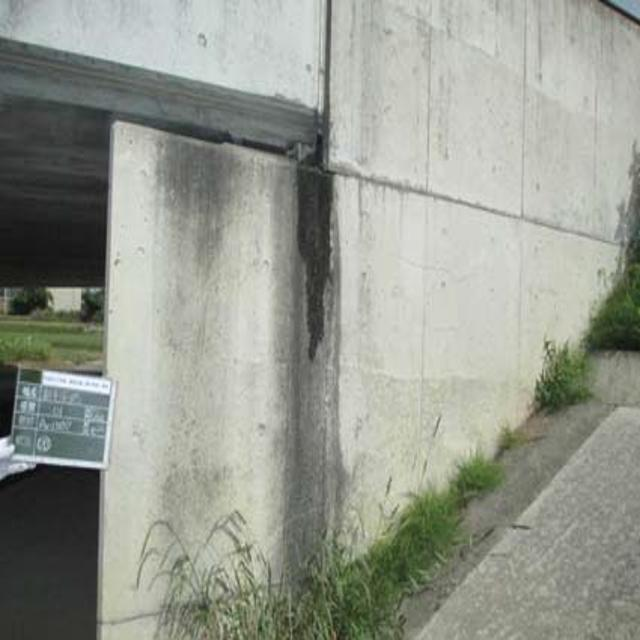leakage: (287, 136, 353, 370)
